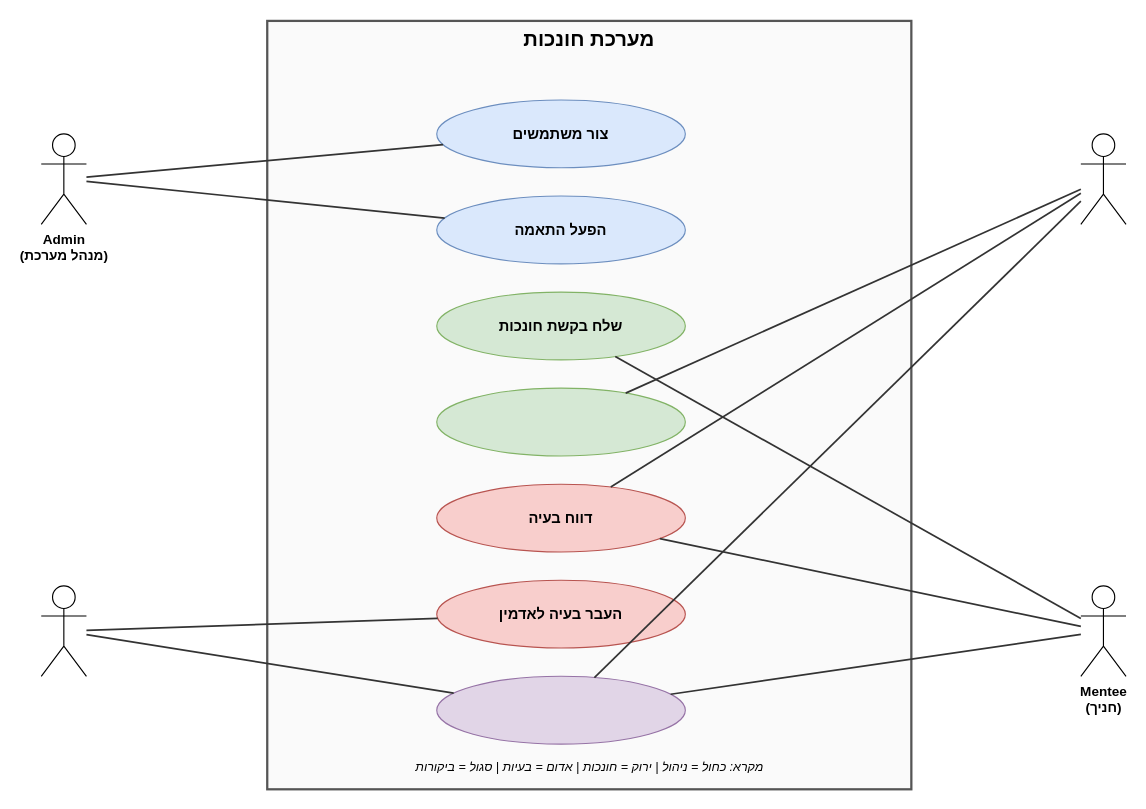
Image size: 1146x809. Some labels were removed from this diagram. Each missing label, with the centre of its shape:
Mentor (חונך): point (1103, 178)
Supervisor (מפקח): point (63, 630)
אשר חונכות: point (560, 421)
הוסף ביקורת: point (560, 709)
